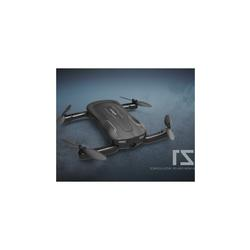drone: (59, 96, 176, 160)
